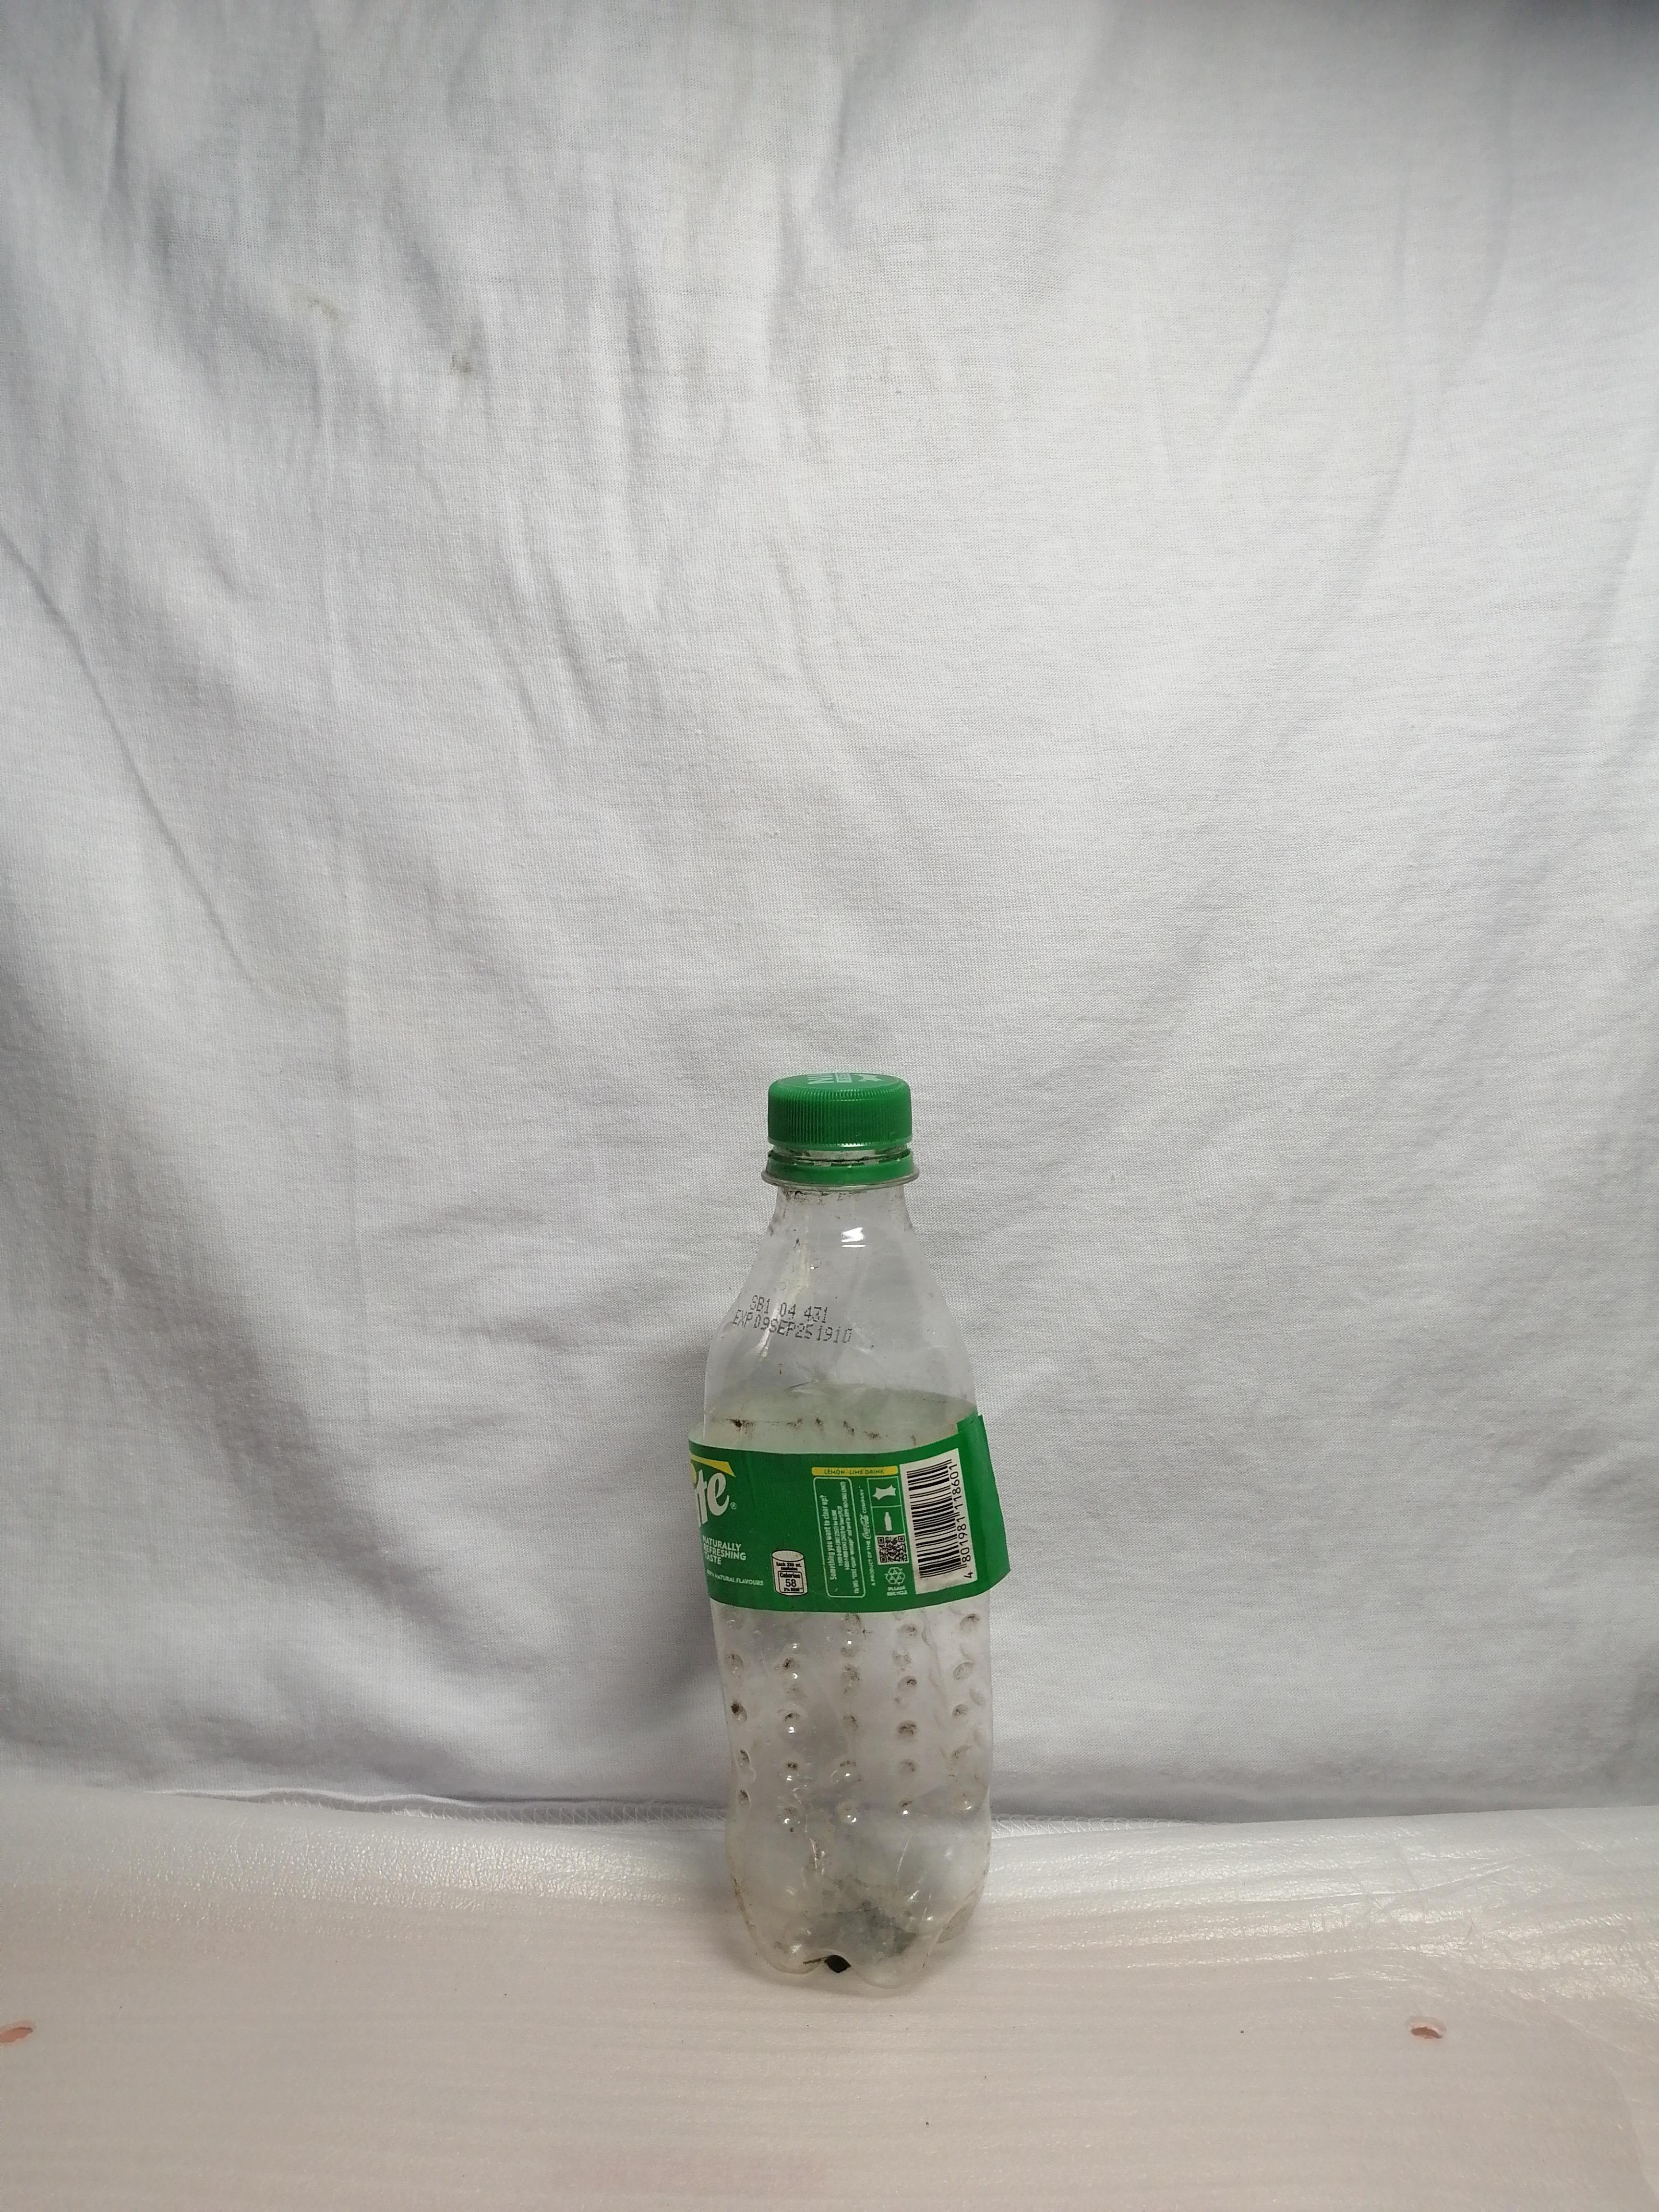plastic-bottle: (638, 1042, 1075, 2064)
